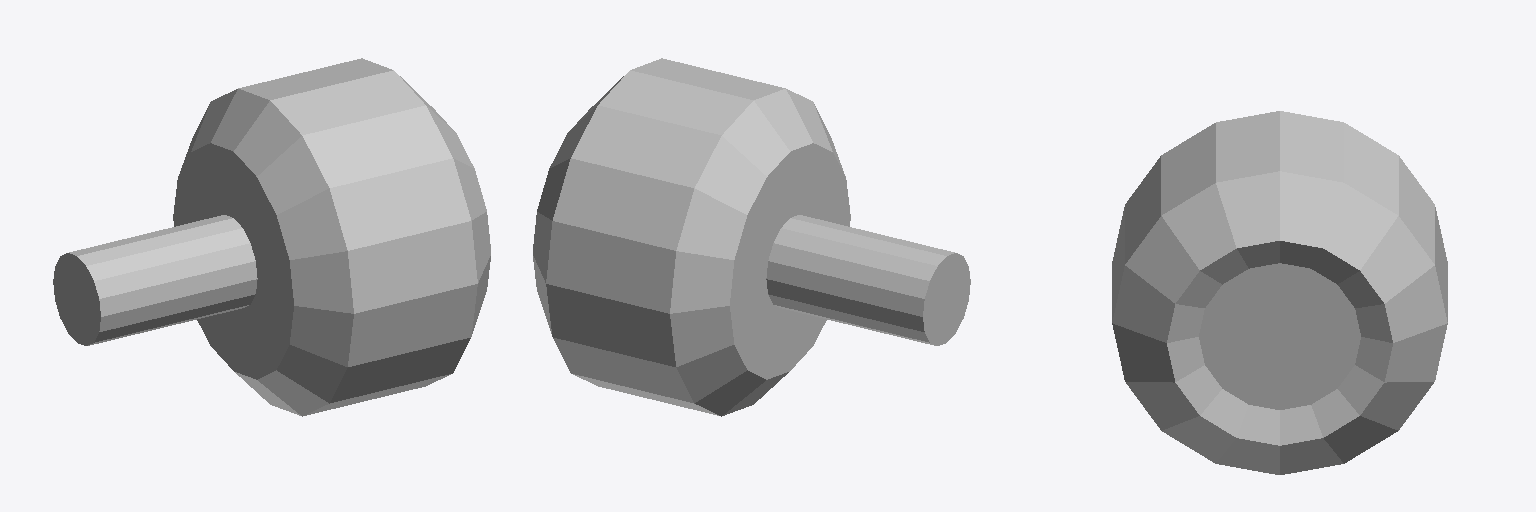
Rendered from wheel.obj.
3 views of the same model, side by side, from view 1: azimuth 30°, elevation 25°; view 2: azimuth 150°, elevation 25°; view 3: azimuth 270°, elevation 25° (orthographic).
Parts seen in each view (by area): view 1: Cube.002; view 2: Cube.002; view 3: Cube.002.
Part boxes in pixels (left/top/right/bottom): Cube.002: left=53, top=58, right=490, bottom=416; Cube.002: left=533, top=58, right=970, bottom=416; Cube.002: left=1112, top=111, right=1447, bottom=474.
Size of the model in its own units: 1.39 by 1.13 by 1.13.